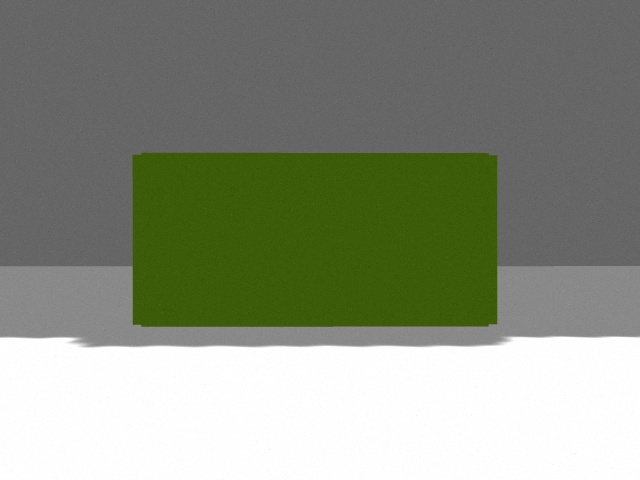green_drop_zone: (132, 153, 497, 327)
